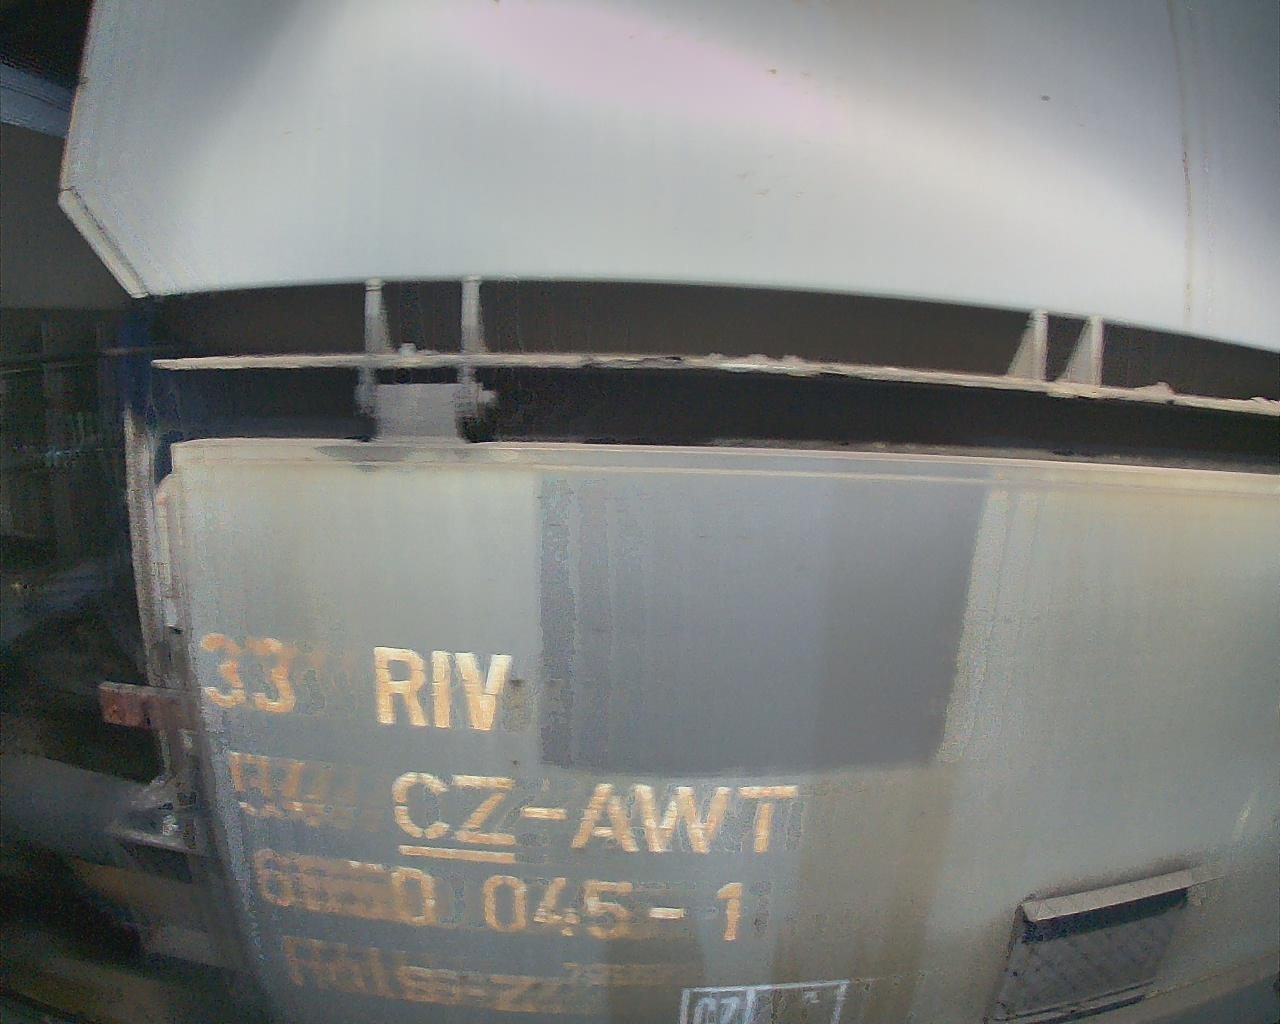UIC: (195, 629, 805, 1017)
